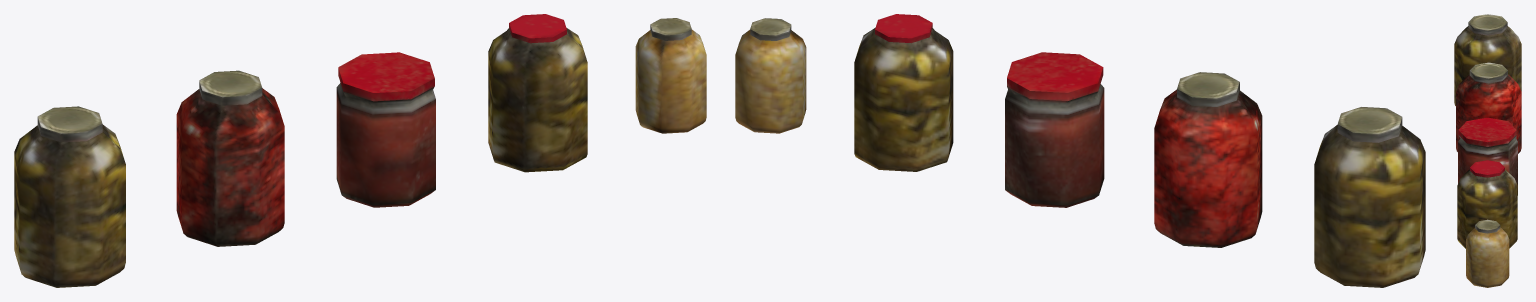
Rendered from GlassContainerSet.FBX.
3 renders of one model, left to right at view 1: azimuth 30°, elevation 25°; view 2: azimuth 150°, elevation 25°; view 3: azimuth 270°, elevation 25°, orthographic. The views are drawn at different scales.
Visible parts, largest first — view 1: GlassContainer_01, GlassContainer_02, GlassContainer_04, GlassContainer_03, GlassContainer_05; view 2: GlassContainer_01, GlassContainer_02, GlassContainer_04, GlassContainer_03, GlassContainer_05; view 3: GlassContainer_03, GlassContainer_02, GlassContainer_01, GlassContainer_04, GlassContainer_05.
Boxes of the visible parts, x1,y1,x2,y2 form: GlassContainer_01: (14, 106, 125, 287); GlassContainer_02: (176, 70, 284, 246); GlassContainer_04: (336, 52, 435, 207); GlassContainer_03: (488, 14, 587, 172); GlassContainer_05: (635, 18, 706, 133); GlassContainer_01: (1314, 107, 1425, 287); GlassContainer_02: (1154, 72, 1262, 247); GlassContainer_04: (1005, 52, 1104, 207); GlassContainer_03: (854, 14, 953, 171); GlassContainer_05: (735, 18, 806, 133); GlassContainer_03: (1457, 160, 1517, 248); GlassContainer_02: (1456, 62, 1521, 153); GlassContainer_01: (1454, 14, 1521, 105); GlassContainer_04: (1458, 117, 1517, 195); GlassContainer_05: (1466, 219, 1509, 287).
Bounding box in the file's own units: 130 × 26.69 × 19.01.
